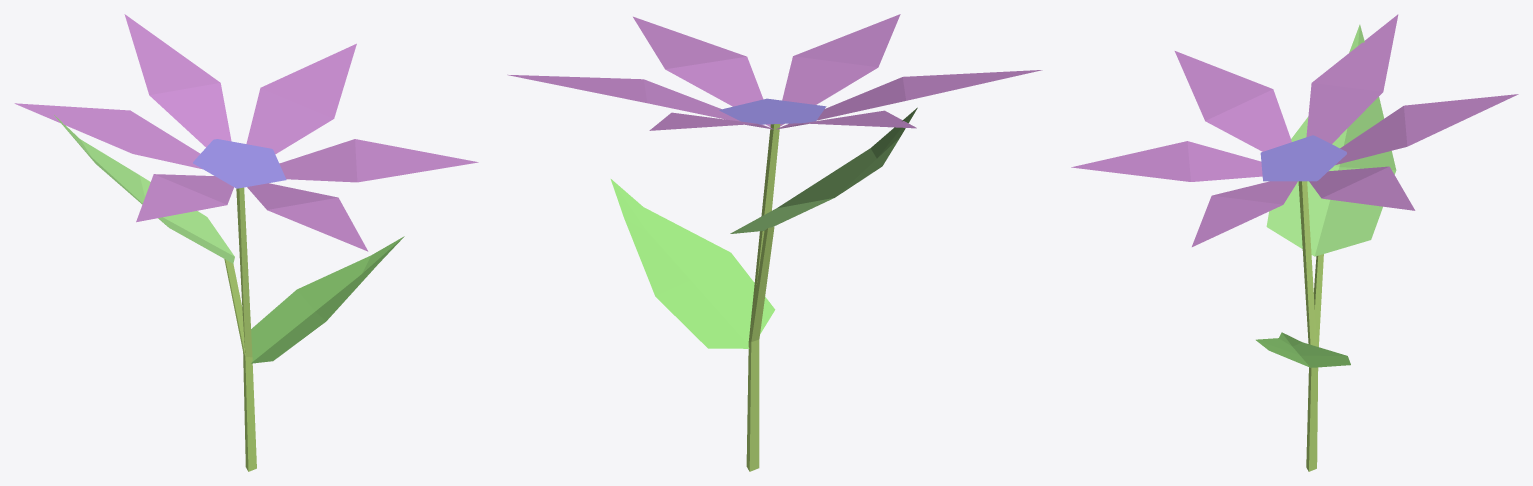
The model's file is Flower_b_TwoS_07.fbx.
3 renders of one model, left to right at view 1: azimuth 30°, elevation 25°; view 2: azimuth 150°, elevation 25°; view 3: azimuth 270°, elevation 25°, orthographic. The views are drawn at different scales.
Parts seen in each view (by area): view 1: Flower_b_TwoS_07; view 2: Flower_b_TwoS_07; view 3: Flower_b_TwoS_07.
Boxes of the visible parts, x1,y1,x2,y2 form: Flower_b_TwoS_07: (14, 14, 478, 471); Flower_b_TwoS_07: (507, 14, 1042, 471); Flower_b_TwoS_07: (1071, 14, 1518, 471).
Size of the model in its own units: 34.64 by 35.23 by 38.98.
